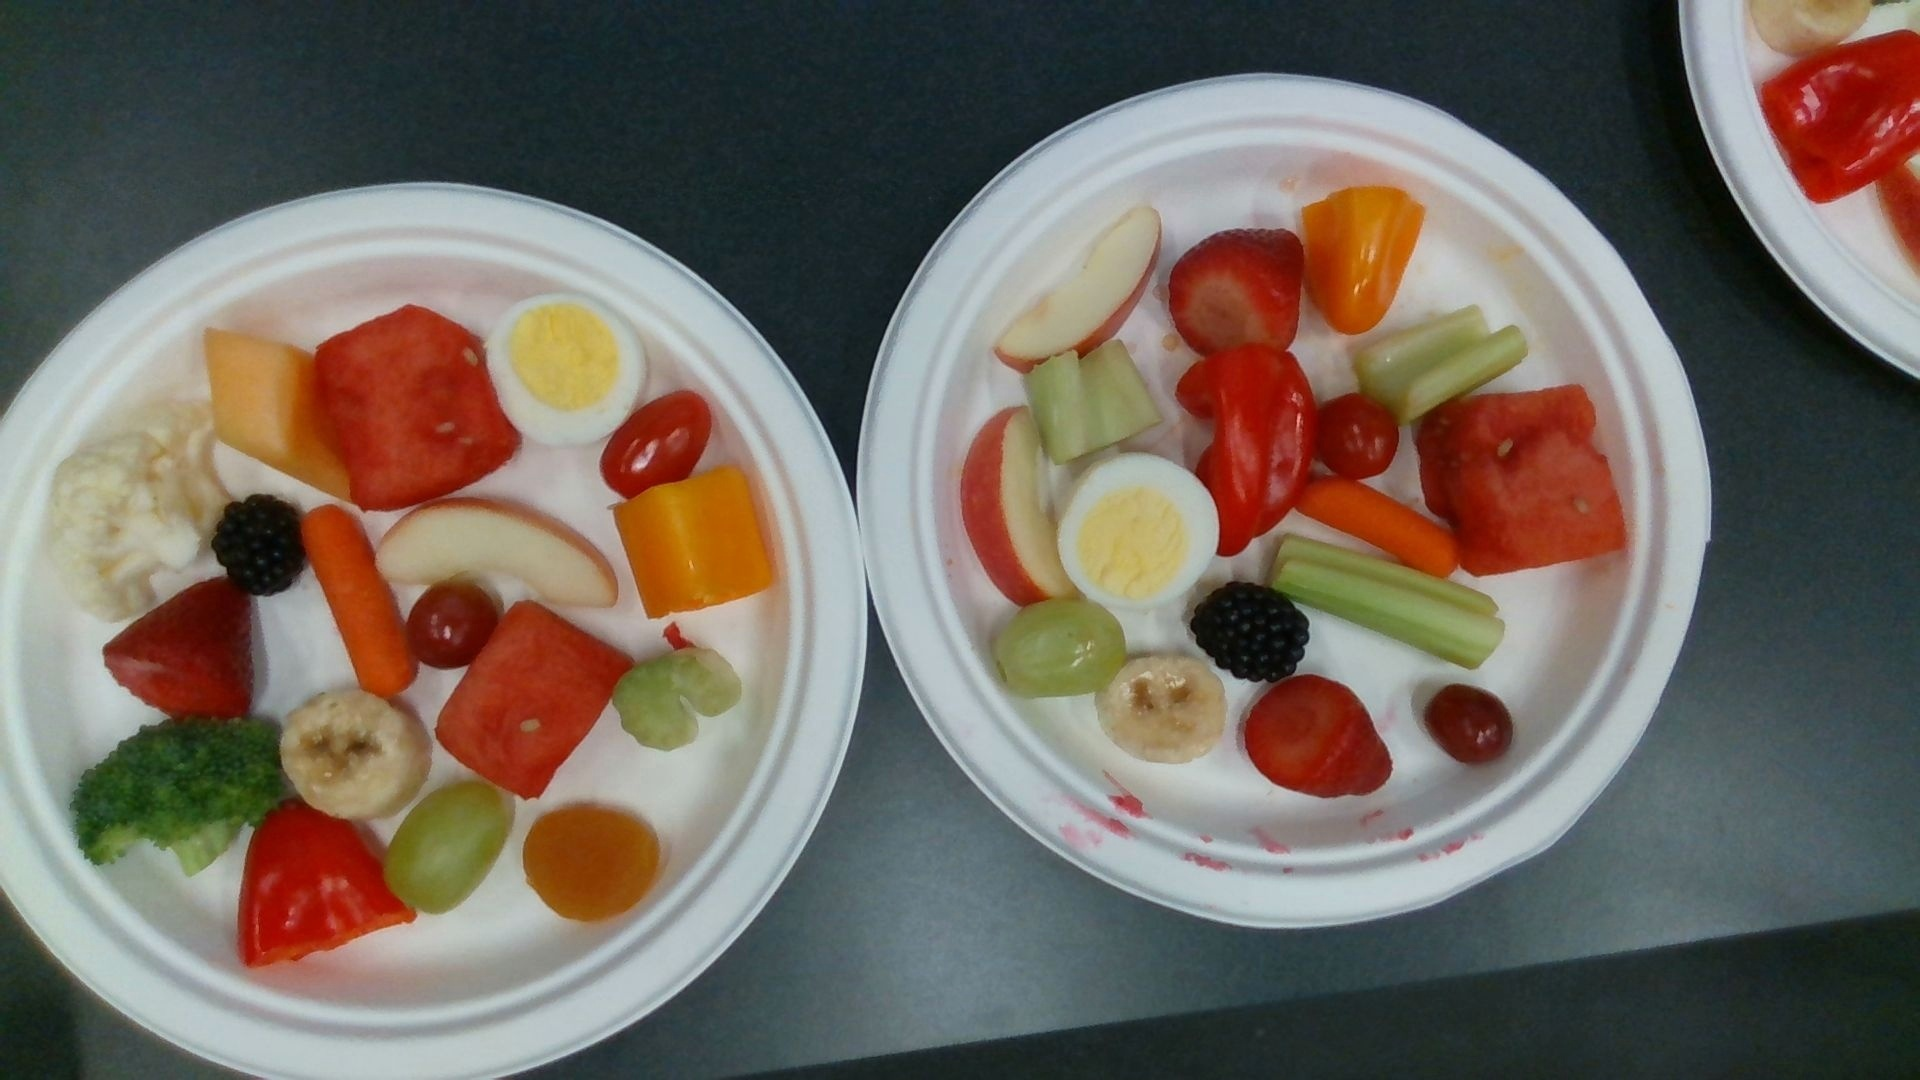apple: (994, 203, 1164, 371), (377, 501, 618, 611), (964, 410, 1080, 601)
apricot: (525, 804, 659, 920)
banana: (282, 694, 429, 815), (1095, 653, 1229, 766)
bell_pepper: (1175, 345, 1313, 558), (240, 806, 417, 968), (1760, 32, 1920, 199), (612, 465, 775, 618), (1302, 189, 1424, 331)
blackberry: (1189, 585, 1309, 680), (218, 498, 302, 591)
broccoli: (74, 716, 297, 870)
cantalope: (202, 323, 353, 500)
carrot: (305, 512, 414, 694), (1300, 480, 1455, 578)
cauliflower: (50, 404, 240, 618)
celery: (1270, 535, 1505, 666), (1354, 305, 1524, 415), (1027, 345, 1159, 462), (615, 646, 744, 752)
cherry_tomato: (607, 390, 709, 491), (1323, 396, 1402, 477)
egg: (485, 293, 647, 443), (1058, 454, 1218, 603)
grape_green: (385, 785, 506, 911), (996, 601, 1122, 695)
grape_purple: (409, 588, 497, 669), (1429, 684, 1514, 764)
melon: (314, 306, 520, 505), (1418, 386, 1625, 571), (435, 607, 630, 791)
strawberry: (102, 582, 255, 728), (1242, 678, 1389, 795), (1170, 229, 1299, 348)
